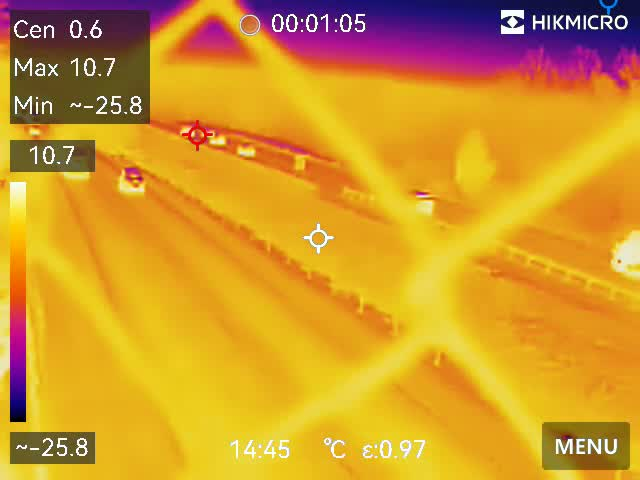vehicle: (115, 162, 148, 198), (404, 183, 437, 213), (199, 128, 229, 146), (236, 139, 258, 159)
